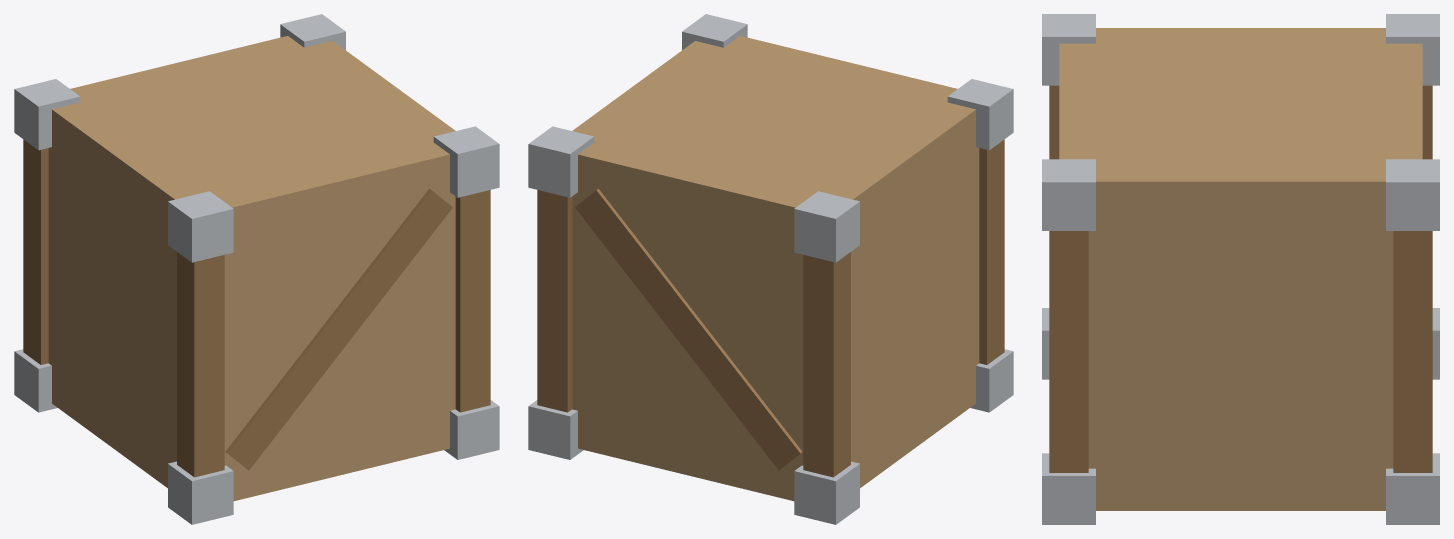
The model's file is 11_wooden_crate.glb.
3 renders of one model, left to right at view 1: azimuth 30°, elevation 25°; view 2: azimuth 150°, elevation 25°; view 3: azimuth 270°, elevation 25°, orthographic. The views are drawn at different scales.
Parts seen in each view (by area): view 1: WoodenCrate; view 2: WoodenCrate; view 3: WoodenCrate.
Part boxes in pixels (bbox=[...]): WoodenCrate: bbox=[14, 14, 499, 524]; WoodenCrate: bbox=[528, 14, 1013, 524]; WoodenCrate: bbox=[1042, 14, 1439, 524].
Size of the model in its own units: 0.81 by 0.77 by 0.81.
